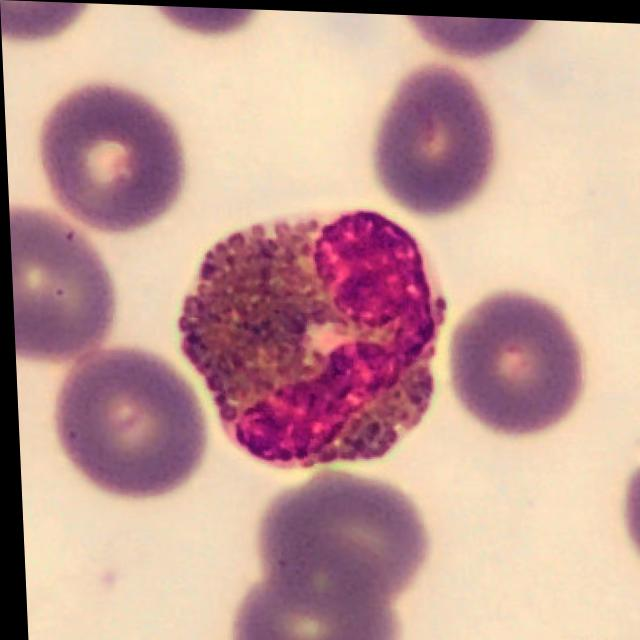Eosinofilo: (178, 206, 443, 466)
